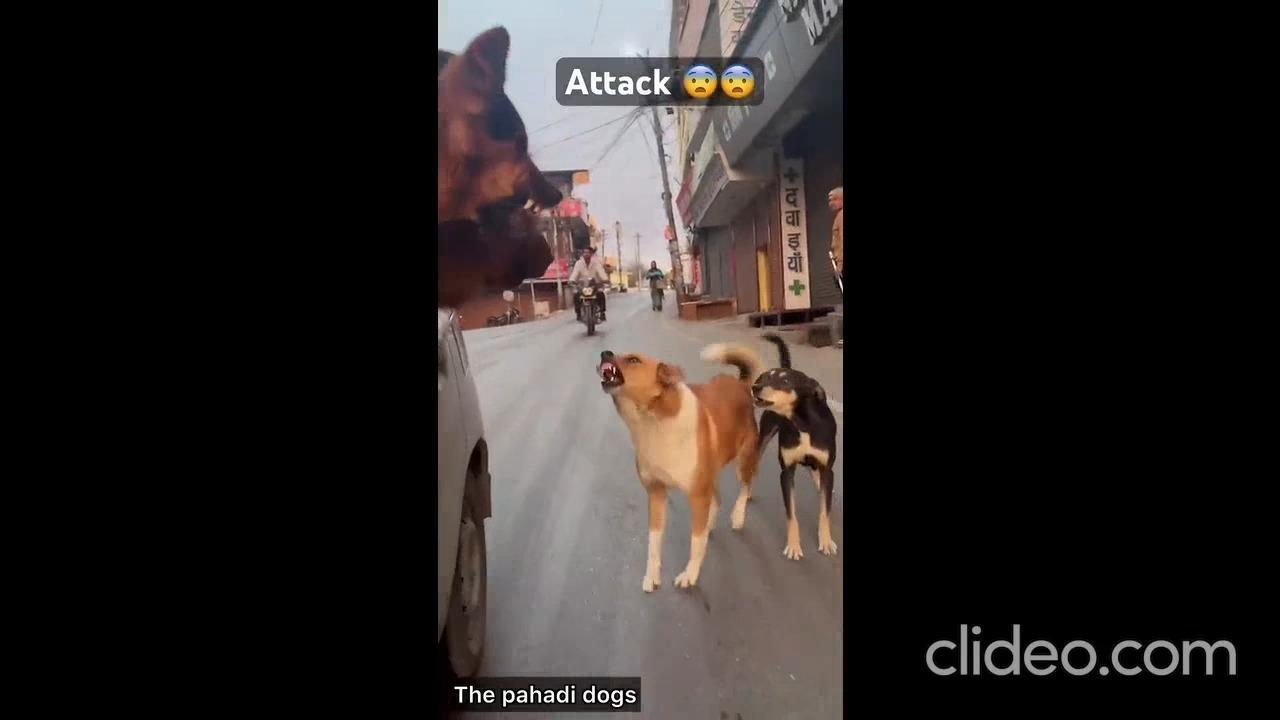dog: (581, 320, 762, 594), (748, 327, 839, 580)
